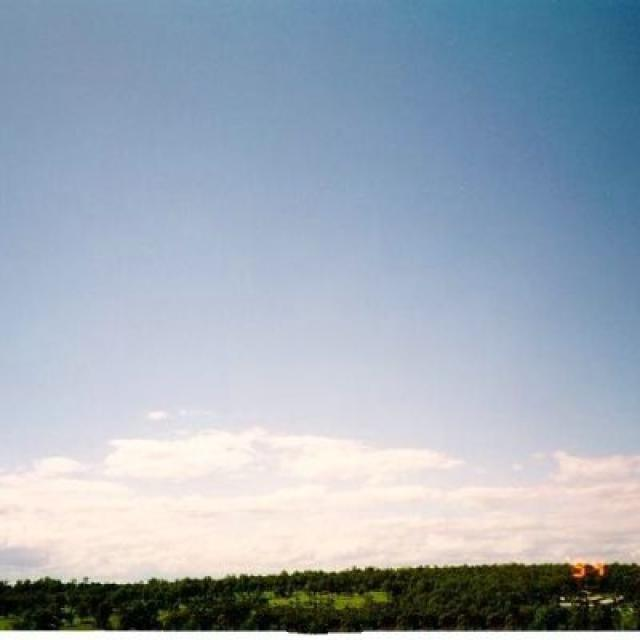Sc: (1, 405, 636, 548)
